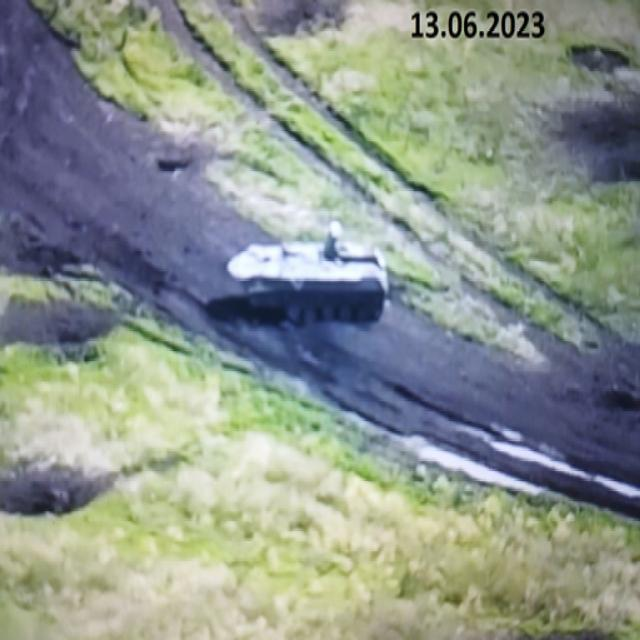APC-IFV: (221, 213, 389, 331)
